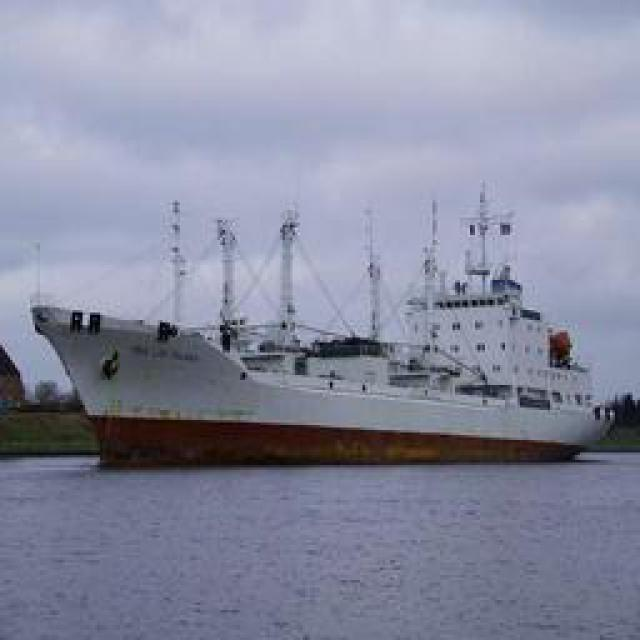Ship: (31, 168, 626, 466)
